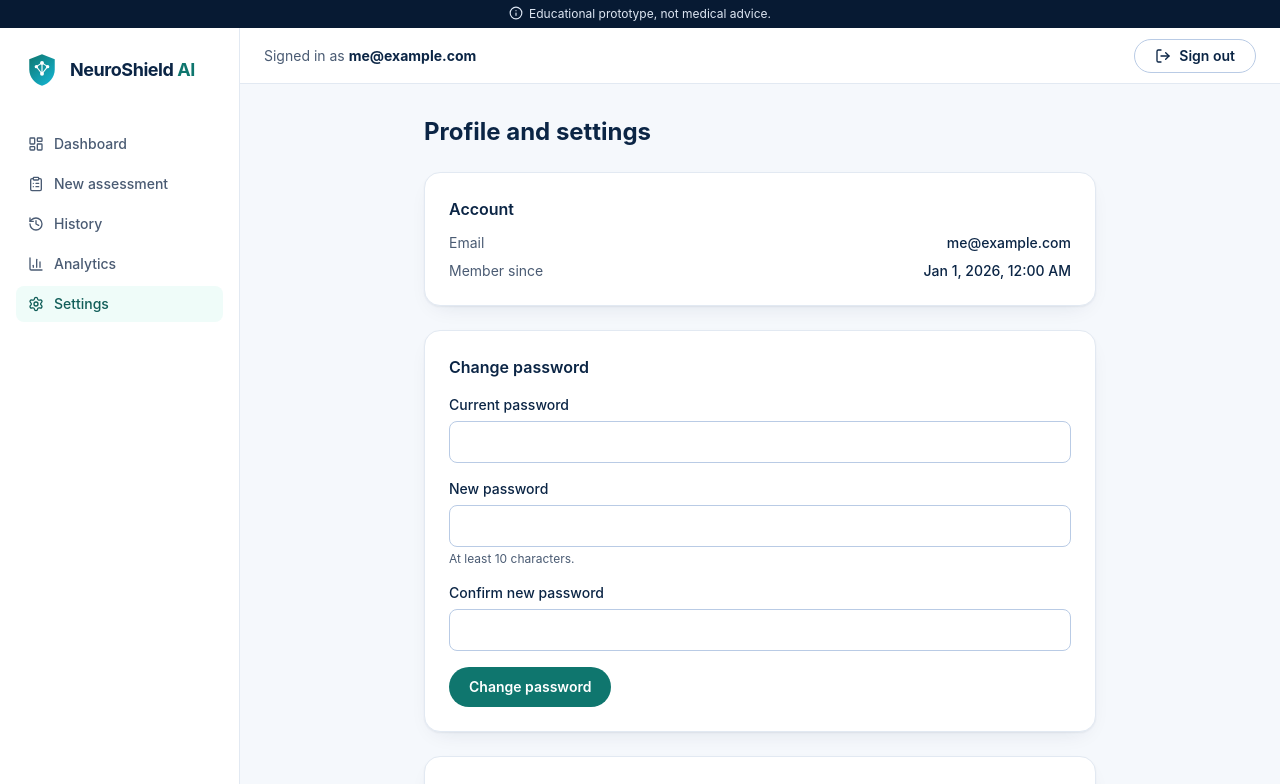
settings › validates the password change locally
Type "old-password-1" into the password field labelled "Current password" at {"x": 760, "y": 442}, box [449,421,1071,463]
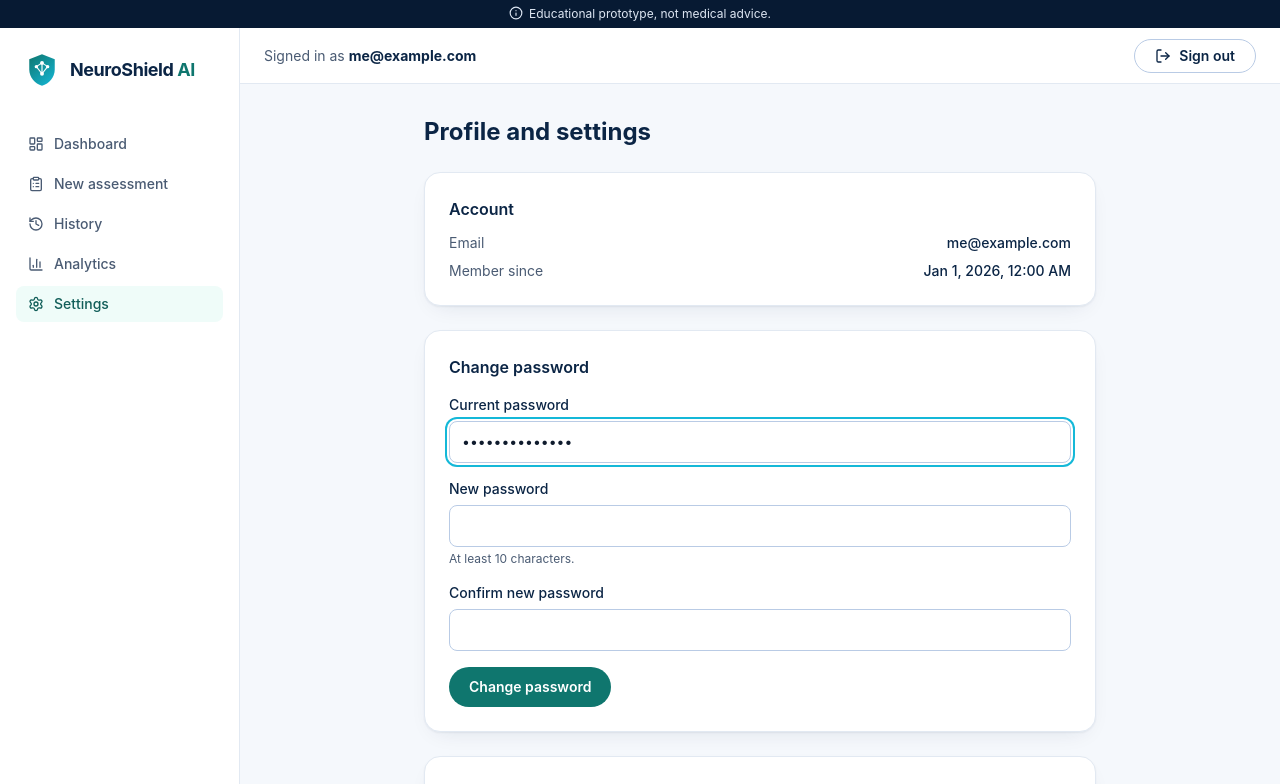
Type "short" into the password field labelled "New password" at {"x": 760, "y": 526}, box [449,505,1071,547]
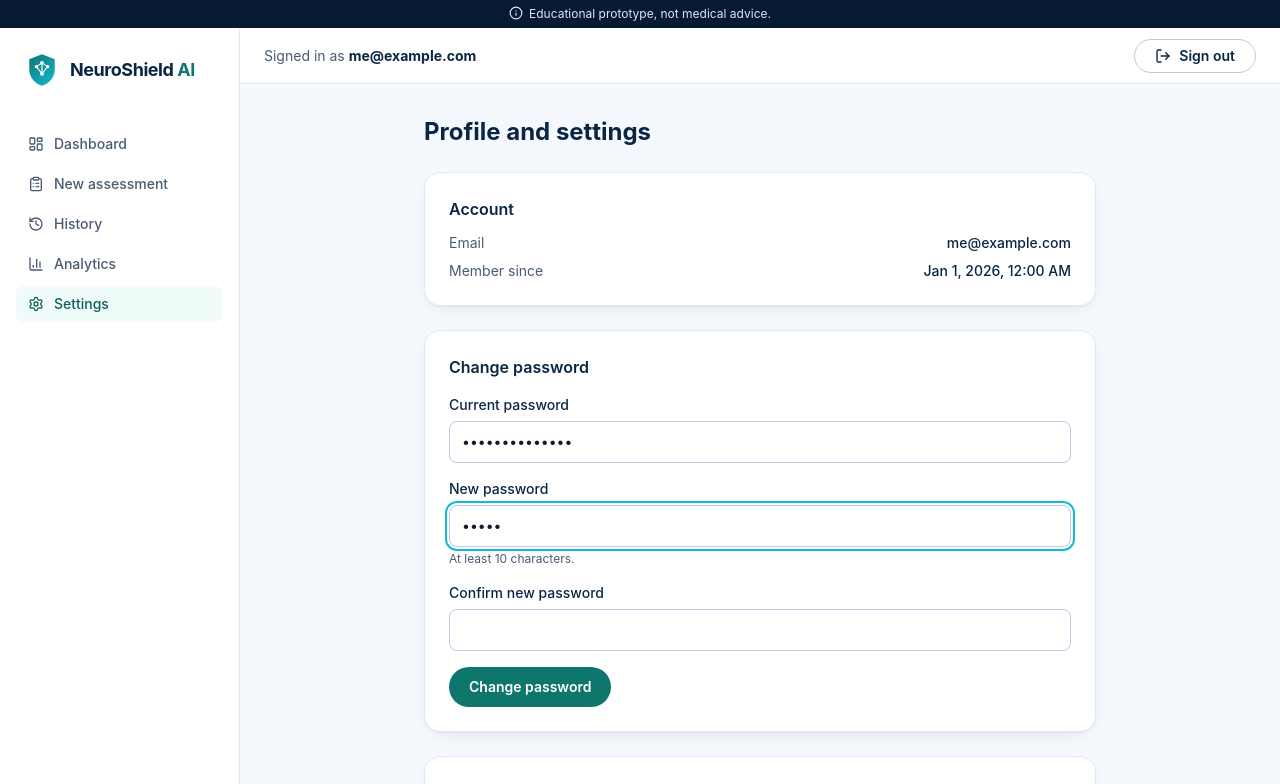
Type "other" into the password field labelled "Confirm new password" at {"x": 760, "y": 630}, box [449,609,1071,651]
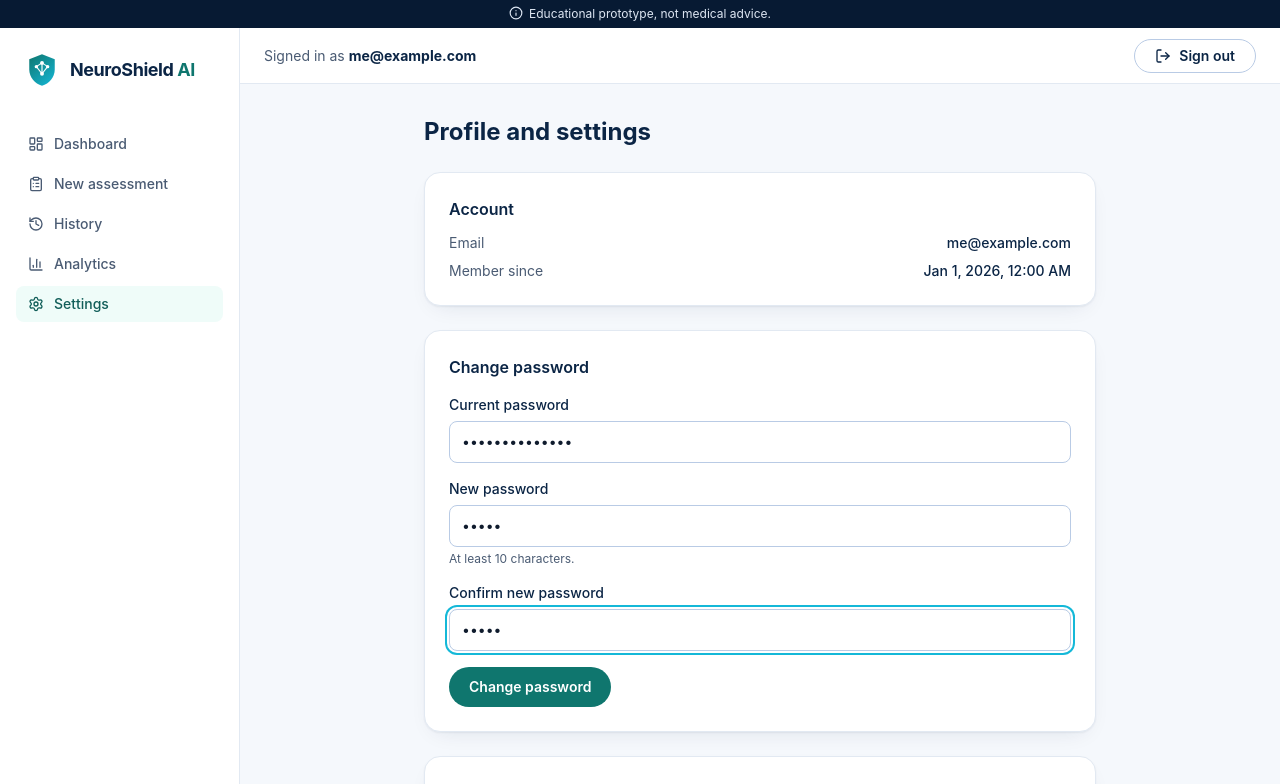
Click the button "Change password" at {"x": 530, "y": 687}, box [449,667,611,707]
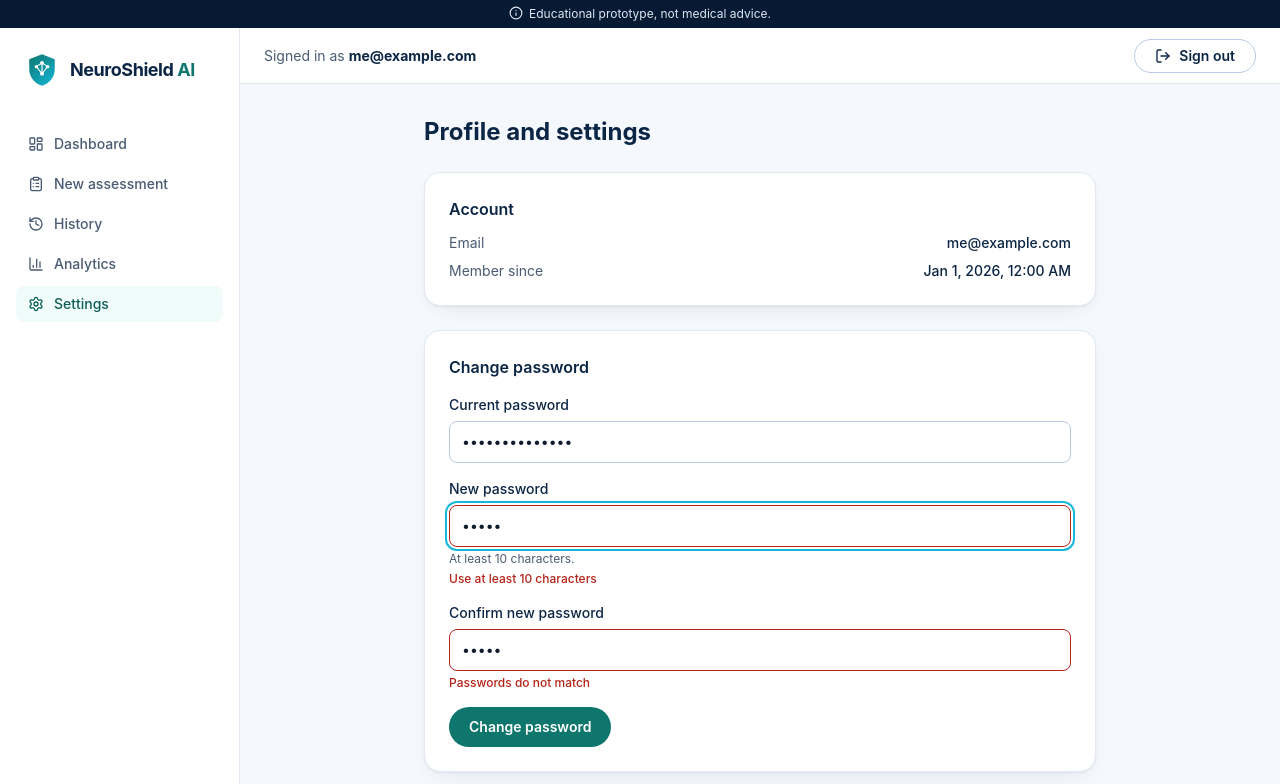
Expected: the text "Use at least 10 characters" is shown, [449,571,597,586]
Expected: the text "Passwords do not match" is shown, [449,675,590,690]
